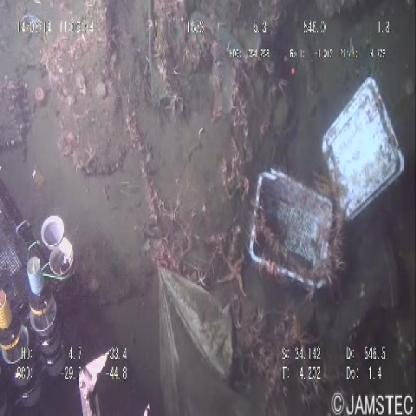Rov: (1, 140, 158, 416)
Rác: (244, 65, 408, 308)
